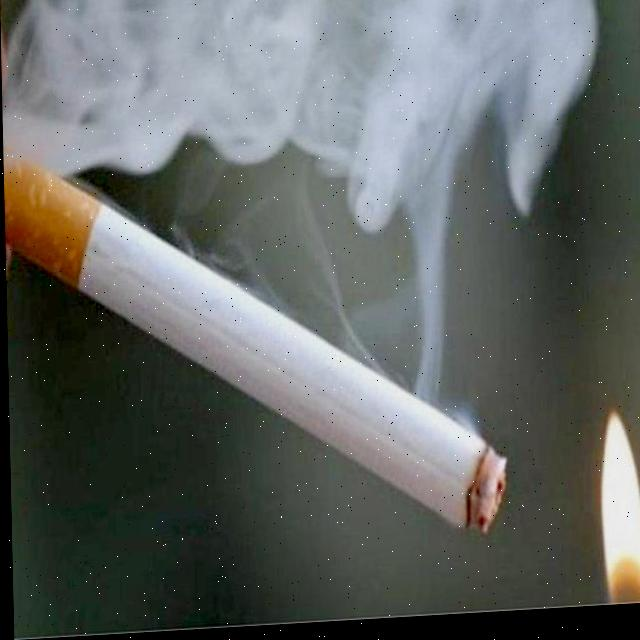cigarette: (3, 123, 506, 564)
